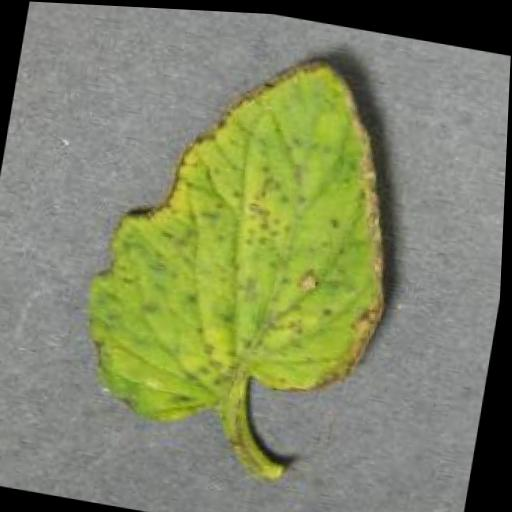Bacterial Spot: (64, 17, 427, 459)
